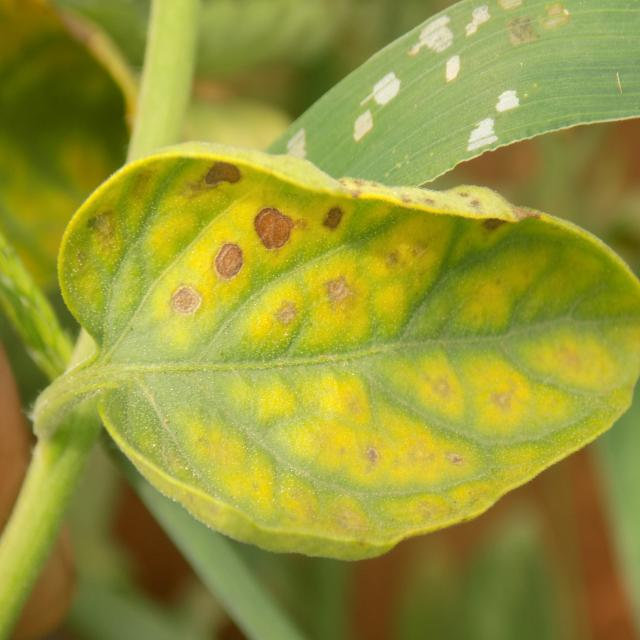tomato_early blight: (58, 142, 640, 564)
